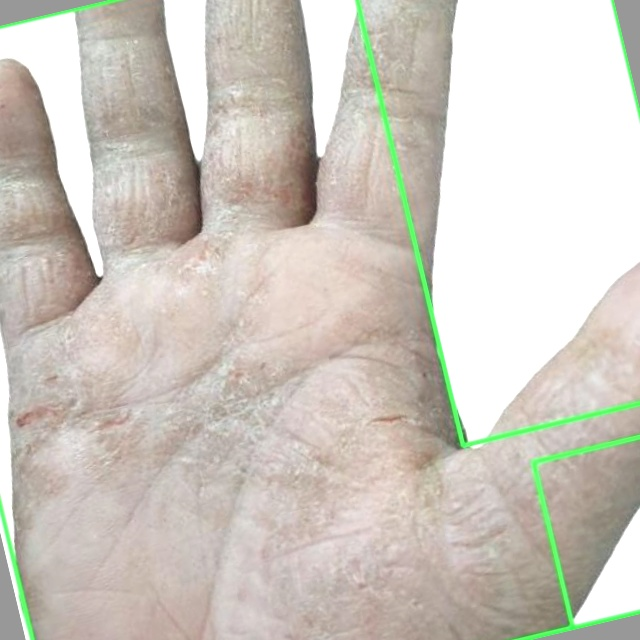Contact Dermatitis: (0, 0, 639, 639), (357, 0, 639, 445)
